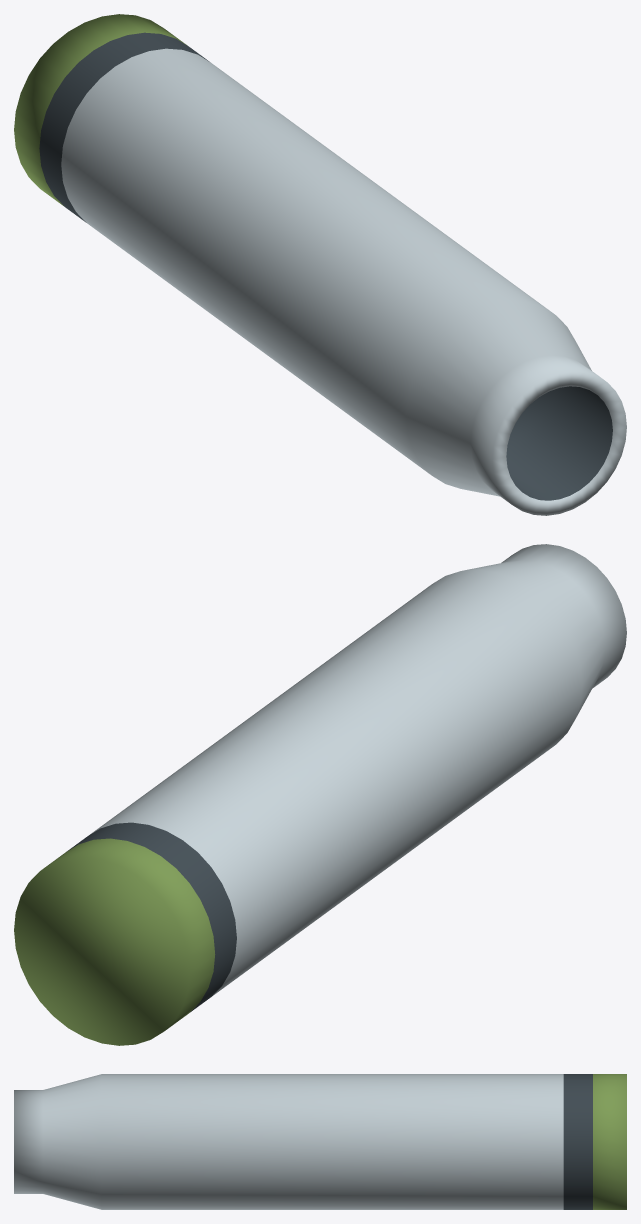
The model's file is tank_arrow_case_display.glb.
The picture shows the model from 3 angles, top to bottom: view 1: azimuth 30°, elevation 25°; view 2: azimuth 150°, elevation 25°; view 3: azimuth 270°, elevation 25°; orthographic projection. The views are drawn at different scales.
Visible parts, largest first — view 1: AMMO_MESH.047; view 2: AMMO_MESH.047; view 3: AMMO_MESH.047.
Part boxes in pixels (box(x1,y1,x2,y2)): AMMO_MESH.047: box(14, 14, 626, 515); AMMO_MESH.047: box(14, 544, 626, 1045); AMMO_MESH.047: box(14, 1074, 626, 1209).
Size of the model in its own units: 0.1466 by 0.1466 by 0.6615.
